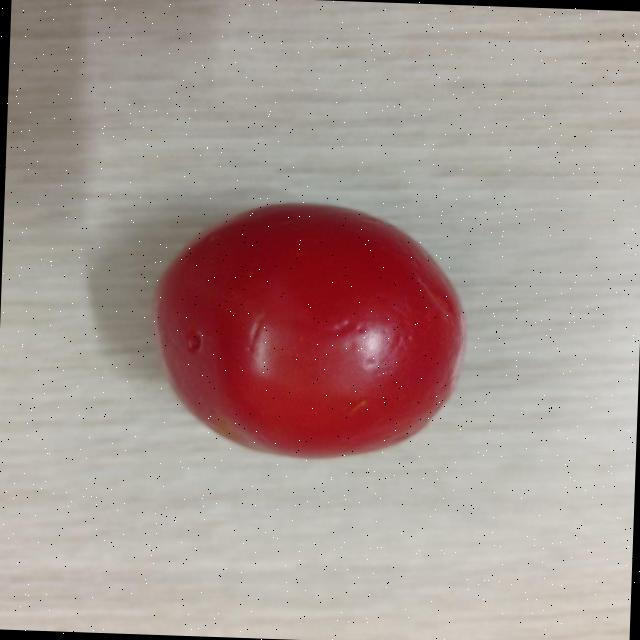Ripe: (138, 192, 476, 468)
